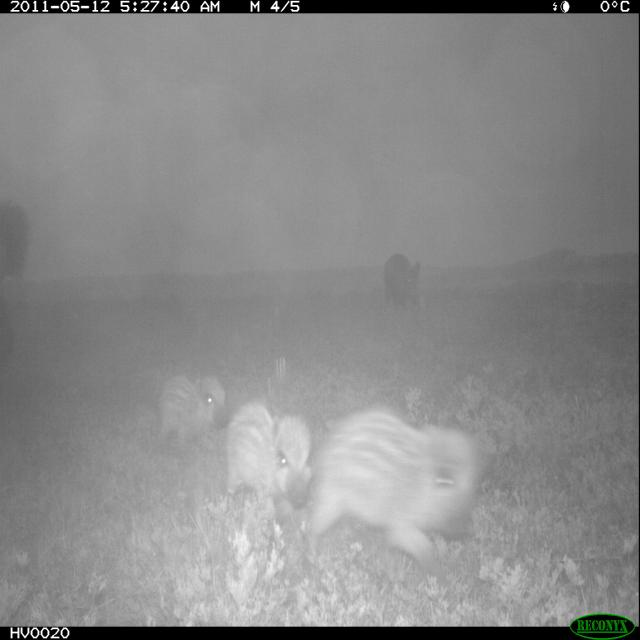boar: (274, 381, 501, 581), (194, 384, 332, 559), (141, 344, 228, 476)
